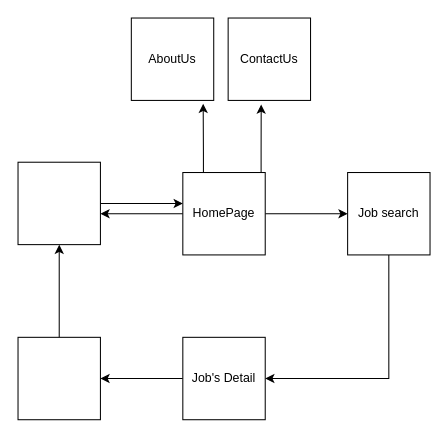
This 448x438 diagram has some shape labels left out. Each missing label, with the centre of its shape:
Apply job: (58,378)
UserRegister: (58,203)
